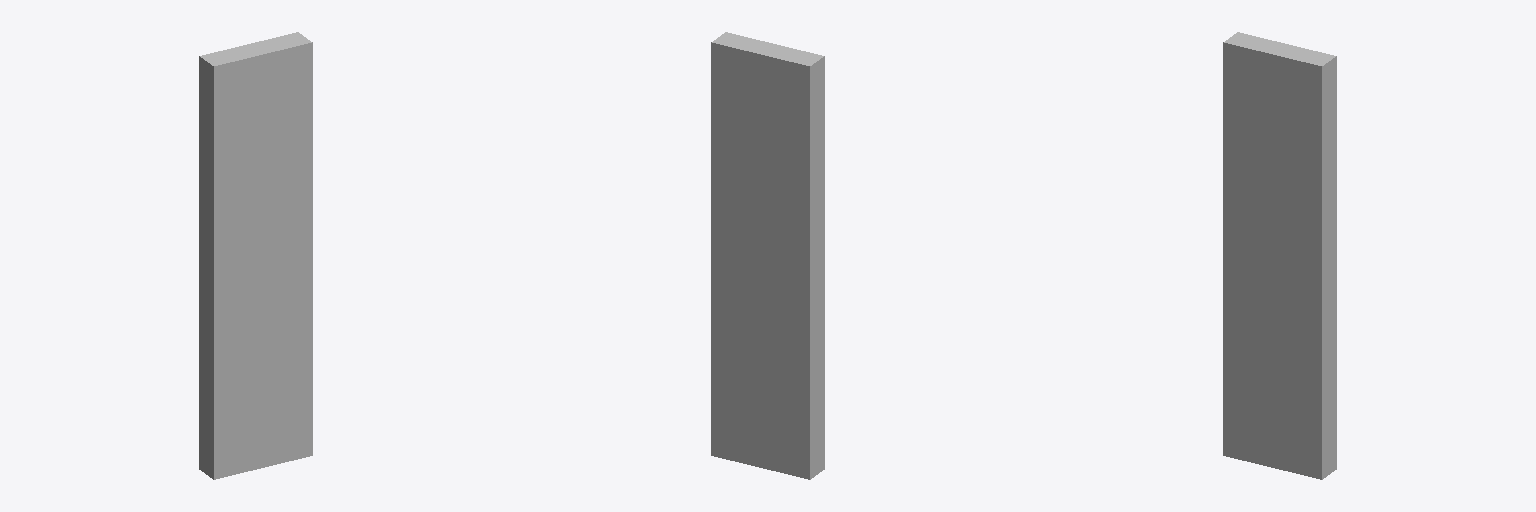
Rendered from basementWallSingleBrickHalf.obj.
3 views of the same model, side by side, from view 1: azimuth 30°, elevation 25°; view 2: azimuth 150°, elevation 25°; view 3: azimuth 330°, elevation 25° (orthographic).
Parts seen in each view (by area): view 1: basementWallSingleBrickHalf; view 2: basementWallSingleBrickHalf; view 3: basementWallSingleBrickHalf.
Part boxes in pixels (bbox=[...]): basementWallSingleBrickHalf: bbox=[199, 32, 312, 479]; basementWallSingleBrickHalf: bbox=[711, 32, 824, 479]; basementWallSingleBrickHalf: bbox=[1223, 32, 1336, 479].
Bounding box in the file's own units: 16 × 64 × 4.